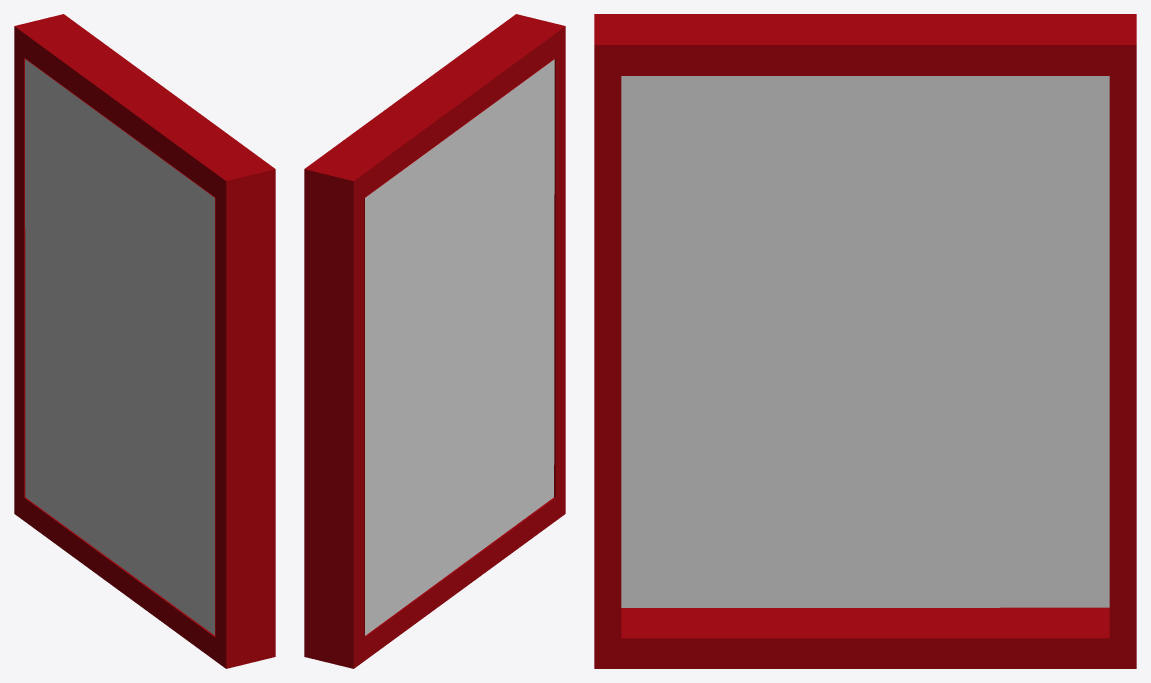
3 renders of one model, left to right at view 1: azimuth 30°, elevation 25°; view 2: azimuth 150°, elevation 25°; view 3: azimuth 270°, elevation 25°, orthographic. The views are drawn at different scales.
Visible parts, largest first — view 1: Cube.013, Cube.005; view 2: Cube.013, Cube.005; view 3: Cube.013, Cube.005.
Boxes of the visible parts, left/top/right/bottom form: Cube.013: left=25, top=59, right=214, bottom=635; Cube.005: left=14, top=14, right=275, bottom=668; Cube.013: left=365, top=59, right=554, bottom=635; Cube.005: left=304, top=14, right=565, bottom=668; Cube.013: left=621, top=76, right=1109, bottom=607; Cube.005: left=594, top=14, right=1136, bottom=668.
Size of the model in its own units: 30.27 by 281 by 221.
